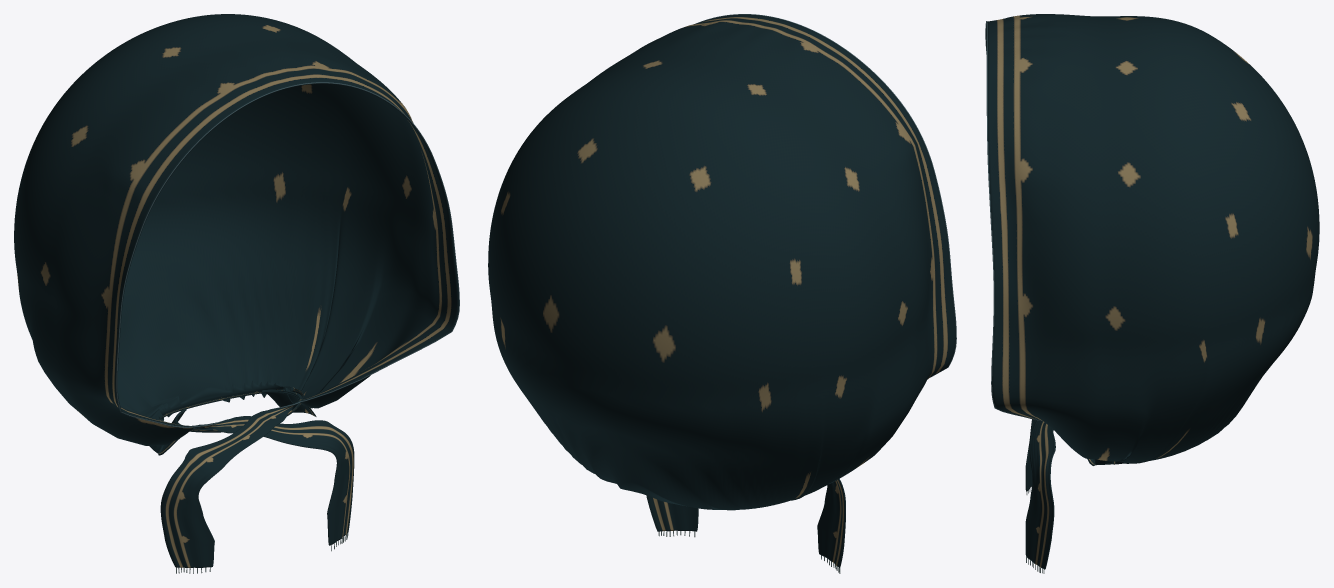
Rendered from Masculine-Masculine-taper-buttonup-pashmina250-headgear-3f073d6d.glb.
3 views of the same model, side by side, from view 1: azimuth 30°, elevation 25°; view 2: azimuth 150°, elevation 25°; view 3: azimuth 270°, elevation 25° (orthographic). The views are drawn at different scales.
Visible parts, largest first — view 1: 226 headgear / Headwear / continuous woven pashmina239, 226 headgear / Headwear / face edge239; view 2: 226 headgear / Headwear / continuous woven pashmina239, 226 headgear / Headwear / face edge239; view 3: 226 headgear / Headwear / continuous woven pashmina239, 226 headgear / Headwear / face edge239.
Boxes of the visible parts, x1,y1,x2,y2 form: 226 headgear / Headwear / continuous woven pashmina239: [14, 14, 458, 567]; 226 headgear / Headwear / face edge239: [116, 82, 459, 427]; 226 headgear / Headwear / continuous woven pashmina239: [488, 14, 955, 568]; 226 headgear / Headwear / face edge239: [696, 14, 956, 377]; 226 headgear / Headwear / continuous woven pashmina239: [986, 14, 1319, 569]; 226 headgear / Headwear / face edge239: [985, 21, 1041, 420].
Size of the model in its own units: 1.07 by 1.4 by 0.8512.
Materials: 3 (1 with a texture image).
